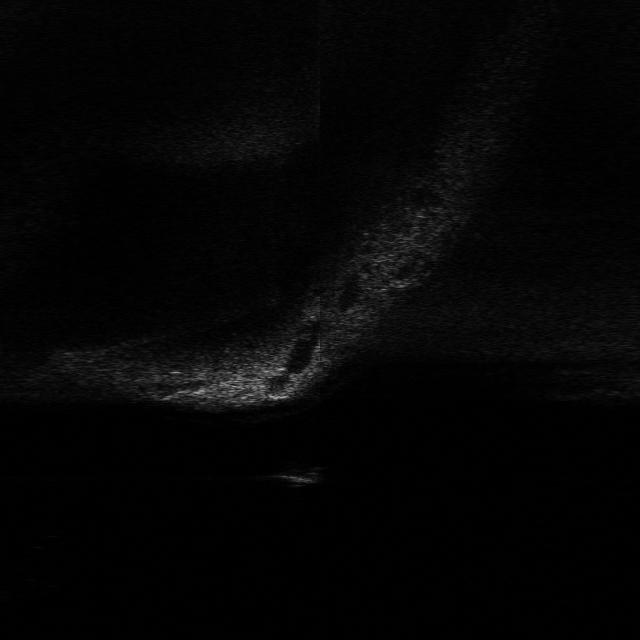cube: (270, 461, 330, 486)
